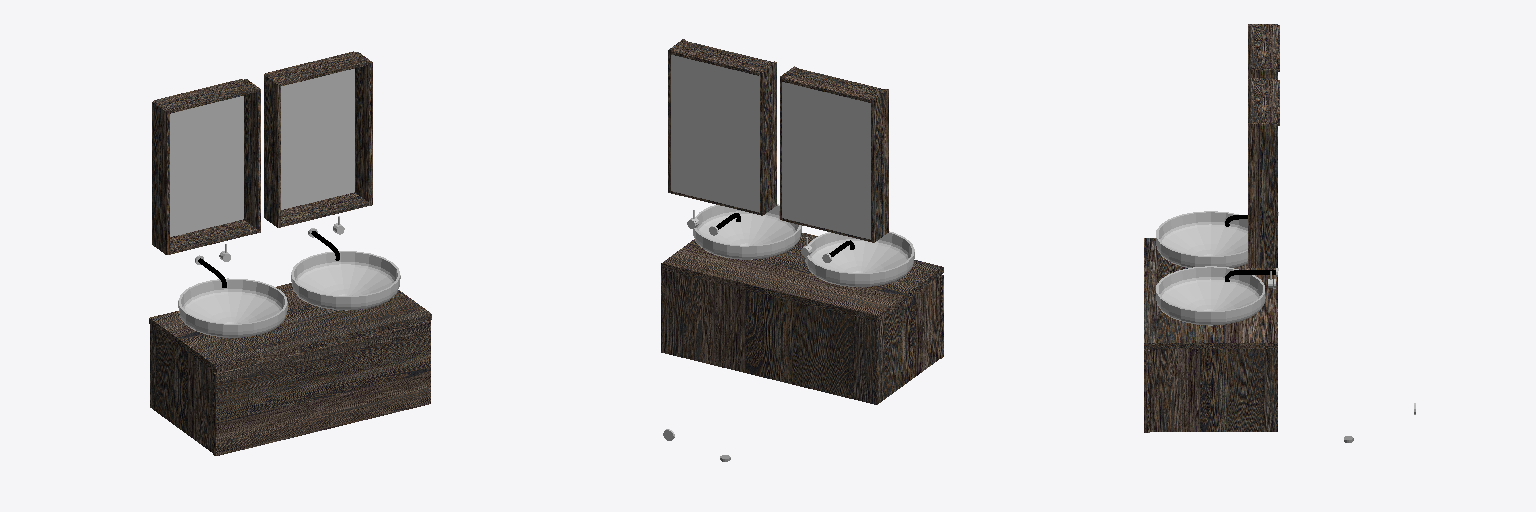
3 renders of one model, left to right at view 1: azimuth 30°, elevation 25°; view 2: azimuth 150°, elevation 25°; view 3: azimuth 270°, elevation 25°, orthographic.
Parts seen in each view (by area): view 1: Cube.003_Cube.004, Plane.000, Plane.001, Cube_Cube.001, Circle_Circle.002, Circle.001_Circle.000, Cube.002_Cube.003, Cube.007_Cube.008, Cube.001_Cube.000, Cube.009_Cube.007, Cube.005_Cube.006, Cube.004_Cube.005 (+3 smaller); view 2: Cube.002_Cube.003, Plane.000, Plane.001, Cube_Cube.001, Circle_Circle.002, Circle.001_Circle.000, Cube.007_Cube.008, Cube.001_Cube.000, Cube.004_Cube.005, Cube.010; view 3: Cube.002_Cube.003, Cube_Cube.001, Circle.001_Circle.000, Circle_Circle.002, Cube.009_Cube.007, Cube.004_Cube.005, Cube.010.
Boxes of the visible parts, <box> form: Cube.003_Cube.004: <box>213,321,430,455</box>; Plane.000: <box>281,69,354,209</box>; Plane.001: <box>170,96,243,236</box>; Cube_Cube.001: <box>149,283,431,372</box>; Circle_Circle.002: <box>178,278,287,337</box>; Circle.001_Circle.000: <box>291,251,400,310</box>; Cube.002_Cube.003: <box>150,325,213,452</box>; Cube.007_Cube.008: <box>152,101,169,254</box>; Cube.001_Cube.000: <box>264,74,280,227</box>; Cube.009_Cube.007: <box>355,52,372,205</box>; Cube.005_Cube.006: <box>244,79,260,232</box>; Cube.004_Cube.005: <box>154,79,256,113</box>; Cube.002_Cube.003: <box>661,270,940,404</box>; Plane.000: <box>671,55,759,212</box>; Plane.001: <box>782,82,870,239</box>; Cube_Cube.001: <box>661,233,943,321</box>; Circle_Circle.002: <box>806,231,914,286</box>; Circle.001_Circle.000: <box>693,204,801,259</box>; Cube.007_Cube.008: <box>871,89,888,242</box>; Cube.001_Cube.000: <box>760,61,776,215</box>; Cube.004_Cube.005: <box>782,68,884,102</box>; Cube.010: <box>671,41,772,75</box>; Cube.002_Cube.003: <box>1150,349,1277,431</box>; Cube_Cube.001: <box>1144,238,1277,349</box>; Circle.001_Circle.000: <box>1156,266,1264,325</box>; Circle_Circle.002: <box>1156,211,1247,267</box>; Cube.009_Cube.007: <box>1248,123,1277,267</box>; Cube.004_Cube.005: <box>1251,25,1279,71</box>; Cube.010: <box>1251,80,1279,125</box>.
Size of the model in its own units: 2.52 by 4.04 by 2.76.
Materials: 19 (1 with a texture image).